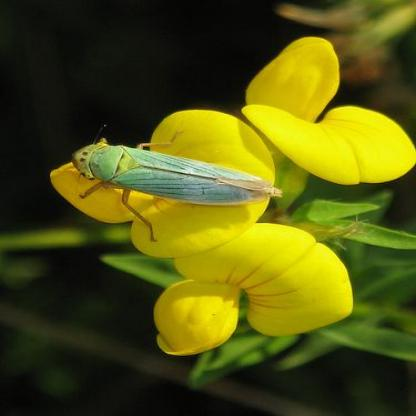Green-Leafhopper: (65, 126, 279, 240)
